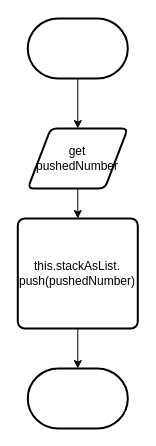
Some shapes in this 156 by 446 pixel diagram are drawn without their labels. The shapes that lost their labels are listed below. From the top down, each one's centre as x and y in pixels, then its label:
the point at 77,48: Start
the point at 77,398: Stop
